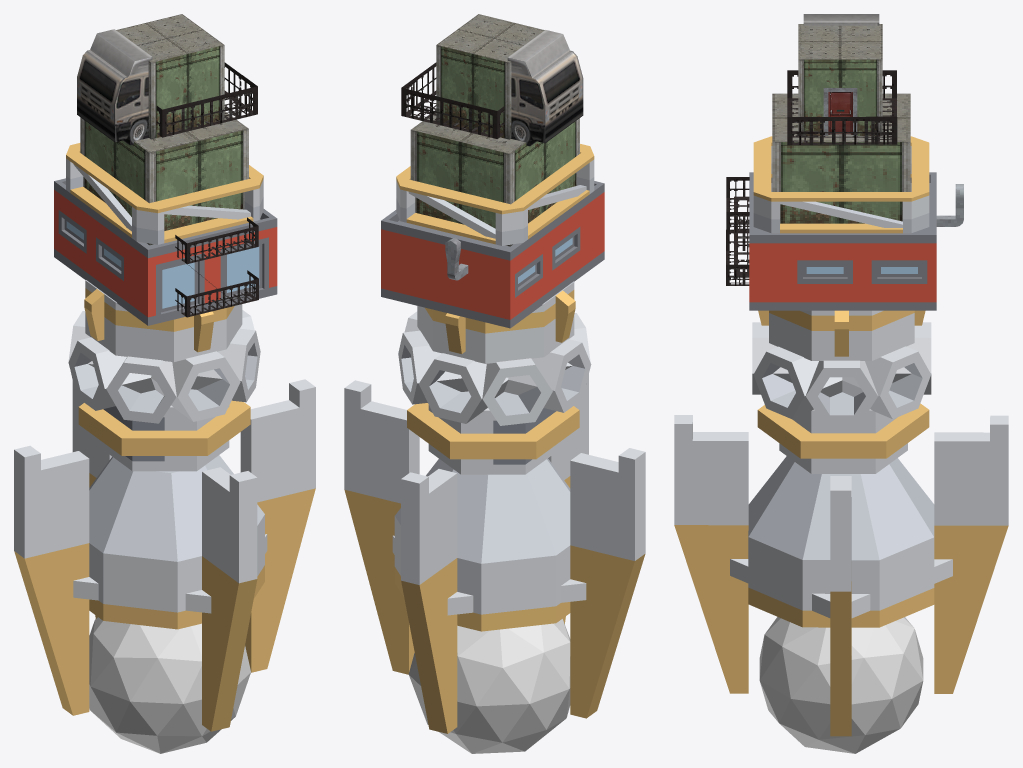
Rendered from delivery_tower_model.gltf.
3 views of the same model, side by side, from view 1: azimuth 30°, elevation 25°; view 2: azimuth 150°, elevation 25°; view 3: azimuth 270°, elevation 25° (orthographic).
Parts seen in each view (by area): view 1: rocket_baseA, DO NOT DEL house part, Icosphere, pipe_cross.002, wallB, structure_diagonal, wallB_door, pipe_ring, rocket_finsB, truck_flat, balcony_typeA.003, balconyLadder_bottom (+2 smaller); view 2: rocket_baseA, DO NOT DEL house part, Icosphere, pipe_cross.002, wallB, structure_diagonal, pipe_ring, wallB_door, truck_flat, rocket_finsB, balcony_typeA.002, balcony_typeA.001 (+1 smaller); view 3: rocket_baseA, Icosphere, DO NOT DEL house part, pipe_cross.002, wallB, wallB_door, structure_diagonal, pipe_ring, rocket_finsB, balcony_typeA.001, balconyLadder_bottom, balcony_typeA.003 (+4 smaller).
Boxes of the visible parts, <box> form: rocket_baseA: <box>14,379,315,731</box>; DO NOT DEL house part: <box>54,178,277,325</box>; Icosphere: <box>89,617,250,753</box>; pipe_cross.002: <box>68,310,260,423</box>; wallB: <box>80,111,248,245</box>; structure_diagonal: <box>66,143,263,244</box>; wallB_door: <box>116,14,224,139</box>; pipe_ring: <box>78,400,250,471</box>; rocket_finsB: <box>84,280,242,361</box>; truck_flat: <box>77,29,152,145</box>; balcony_typeA.003: <box>156,78,257,137</box>; balconyLadder_bottom: <box>175,257,258,317</box>; rocket_baseA: <box>344,374,645,733</box>; DO NOT DEL house part: <box>381,181,604,328</box>; Icosphere: <box>408,619,570,753</box>; pipe_cross.002: <box>398,311,591,425</box>; wallB: <box>410,113,579,246</box>; structure_diagonal: <box>396,144,594,245</box>; pipe_ring: <box>407,403,579,474</box>; wallB_door: <box>436,14,544,139</box>; truck_flat: <box>507,30,583,146</box>; rocket_finsB: <box>417,281,575,363</box>; balcony_typeA.002: <box>402,76,504,138</box>; balcony_typeA.001: <box>401,62,436,122</box>; rocket_baseA: <box>674,415,1008,736</box>; Icosphere: <box>759,617,923,753</box>; DO NOT DEL house part: <box>749,172,936,310</box>; pipe_cross.002: <box>752,321,931,424</box>; wallB: <box>772,93,910,223</box>; wallB_door: <box>798,24,882,135</box>; structure_diagonal: <box>753,136,929,233</box>; pipe_ring: <box>757,403,929,473</box>; rocket_finsB: <box>758,310,925,360</box>; balcony_typeA.001: <box>792,117,897,144</box>; balconyLadder_bottom: <box>726,196,749,285</box>; balcony_typeA.003: <box>787,70,818,144</box>.
Size of the model in its own units: 1.8 by 4.21 by 1.8.
31 materials, 15 textured.
